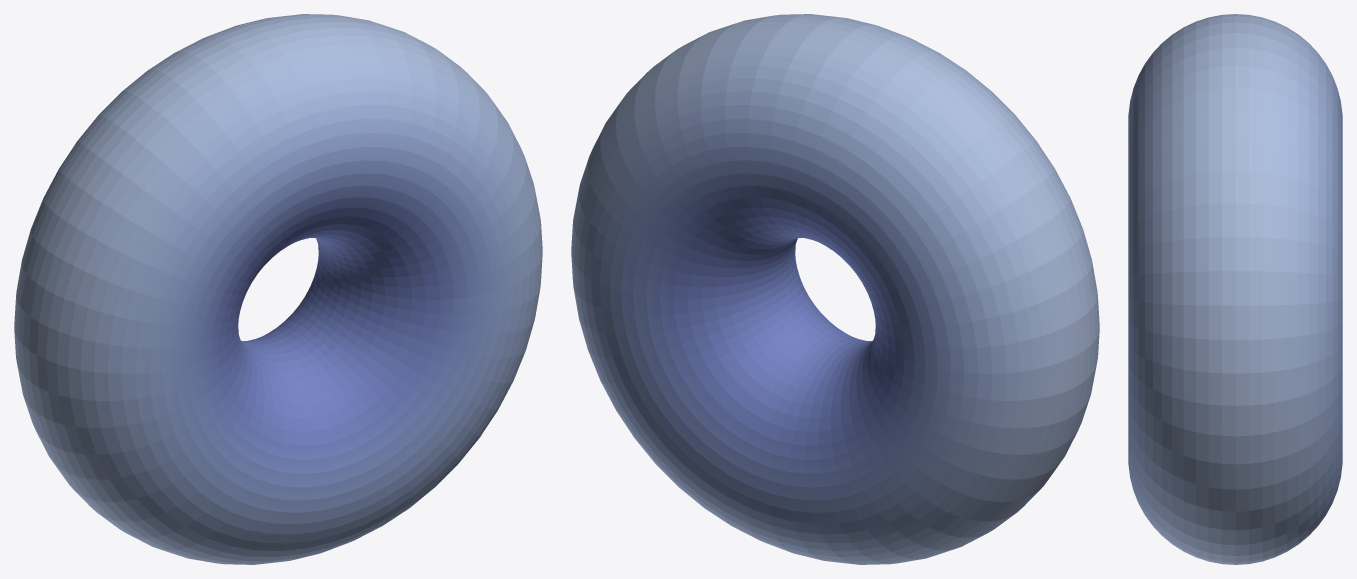
3 views of the same model, side by side, from view 1: azimuth 30°, elevation 25°; view 2: azimuth 150°, elevation 25°; view 3: azimuth 270°, elevation 25° (orthographic). The views are drawn at different scales.
Visible parts, largest first — view 1: world; view 2: world; view 3: world.
Boxes of the visible parts, <box> form: world: <box>14,14,542,564</box>; world: <box>571,14,1099,564</box>; world: <box>1128,14,1342,564</box>.
Size of the model in its own units: 17.47 by 17.43 by 6.79.
